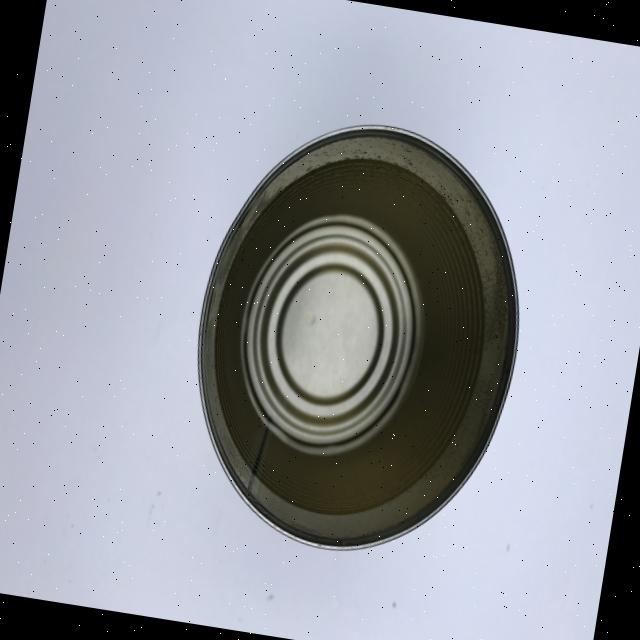metal: (168, 100, 550, 574)
